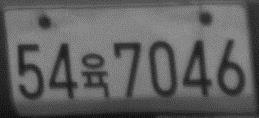0: (148, 40, 178, 97)
4: (45, 42, 79, 101), (180, 39, 213, 99)
5: (16, 42, 45, 100)
6: (215, 37, 246, 97)
7: (111, 40, 143, 99)
육: (79, 53, 113, 100)
